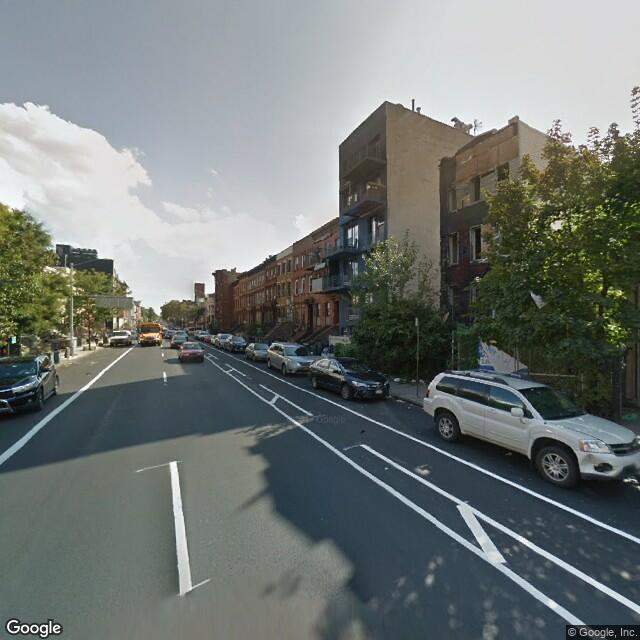litter: (385, 370, 437, 391)
